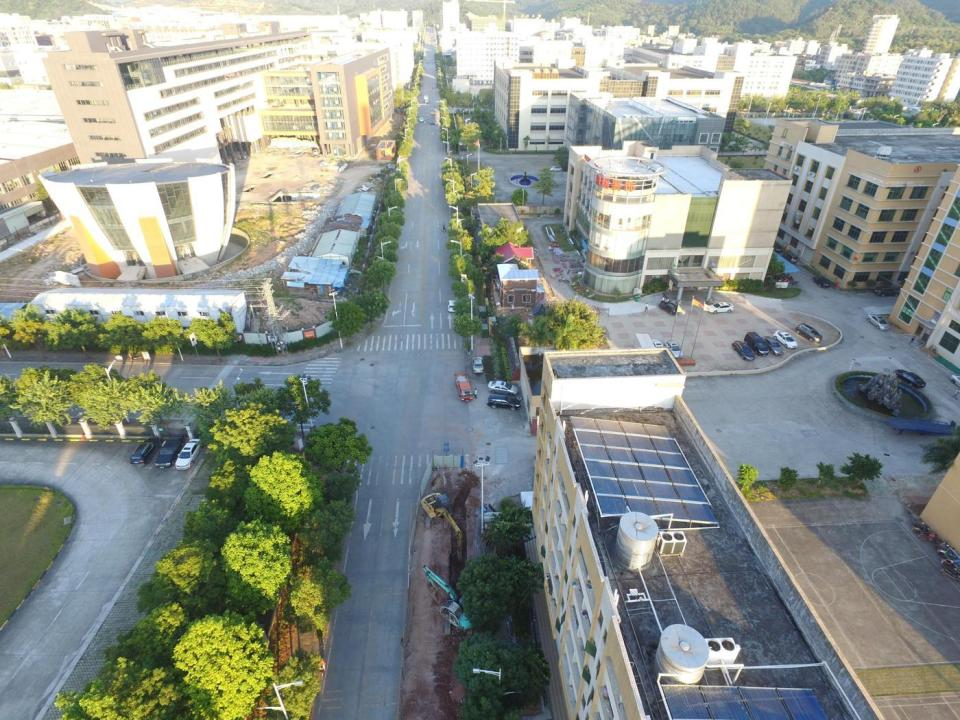bus: (430, 110, 435, 120)
car: (154, 435, 186, 468), (130, 437, 162, 467), (175, 438, 203, 470), (894, 369, 926, 388), (796, 323, 824, 343), (487, 394, 521, 410), (488, 380, 519, 396), (732, 340, 755, 361), (762, 335, 784, 356), (774, 330, 798, 349), (867, 314, 890, 332), (664, 339, 683, 360), (658, 300, 679, 316), (707, 302, 734, 314), (873, 285, 902, 296), (650, 339, 666, 358), (812, 276, 831, 288), (766, 239, 782, 253), (472, 356, 485, 373), (447, 300, 458, 312), (950, 374, 960, 387), (550, 165, 564, 172), (419, 117, 424, 122)
truck: (453, 371, 473, 402), (423, 95, 430, 104), (429, 115, 434, 124)
van: (743, 331, 769, 357), (782, 252, 798, 264), (313, 148, 320, 156)
